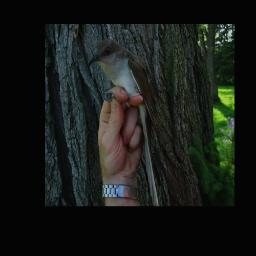Cuckoo: (86, 38, 165, 206)
